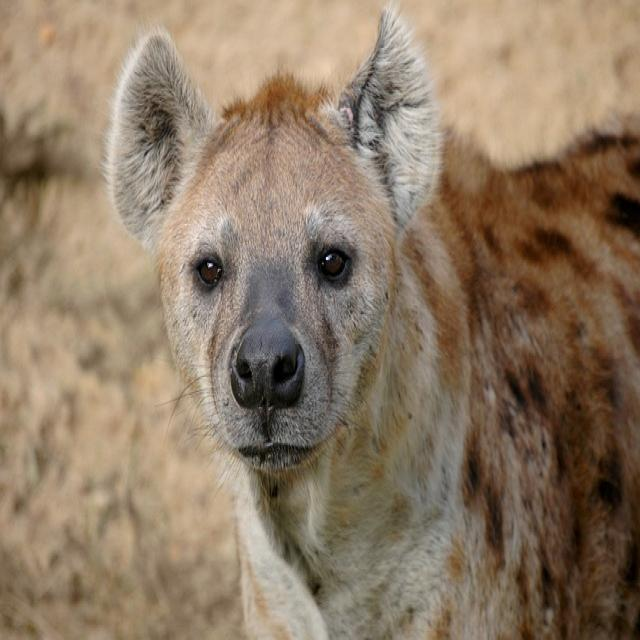Carnivorous: (102, 8, 640, 640)
